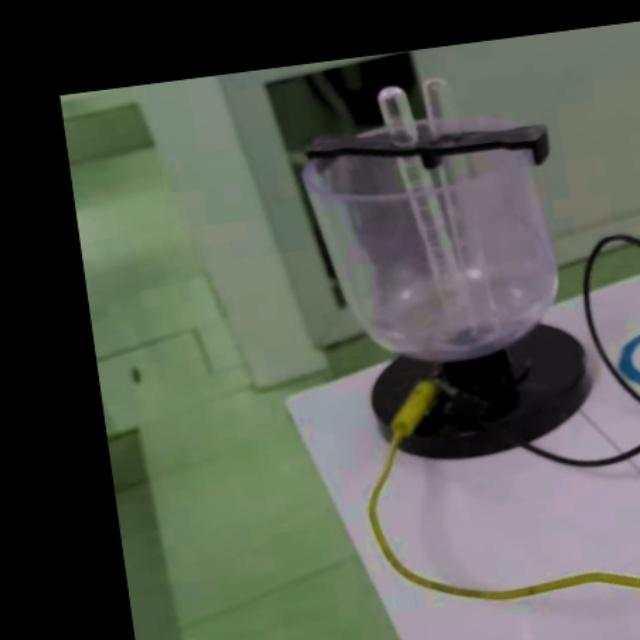Electrolyzer: (278, 69, 606, 472)
